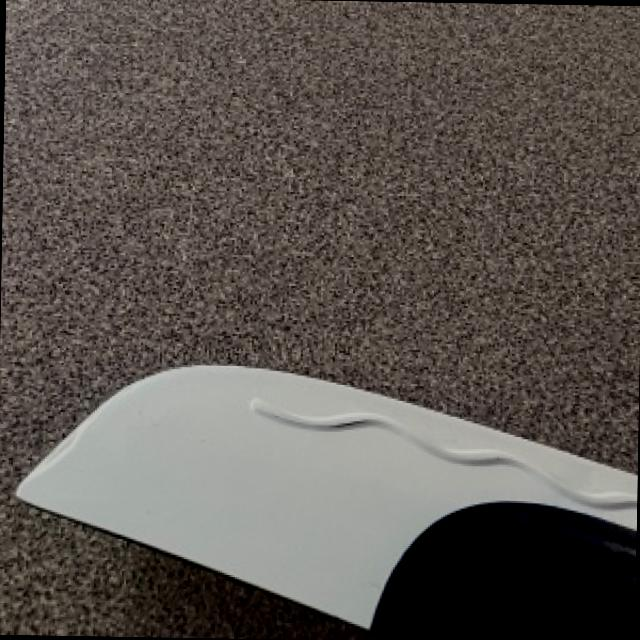healthy: (14, 363, 635, 640)
